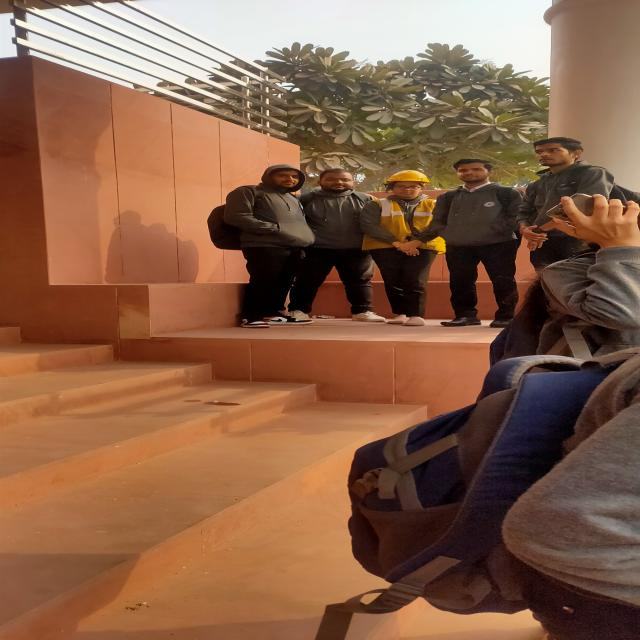safe: (363, 164, 437, 334)
unsafe: (434, 158, 523, 335), (219, 164, 308, 332), (292, 163, 379, 333), (530, 137, 640, 223)
